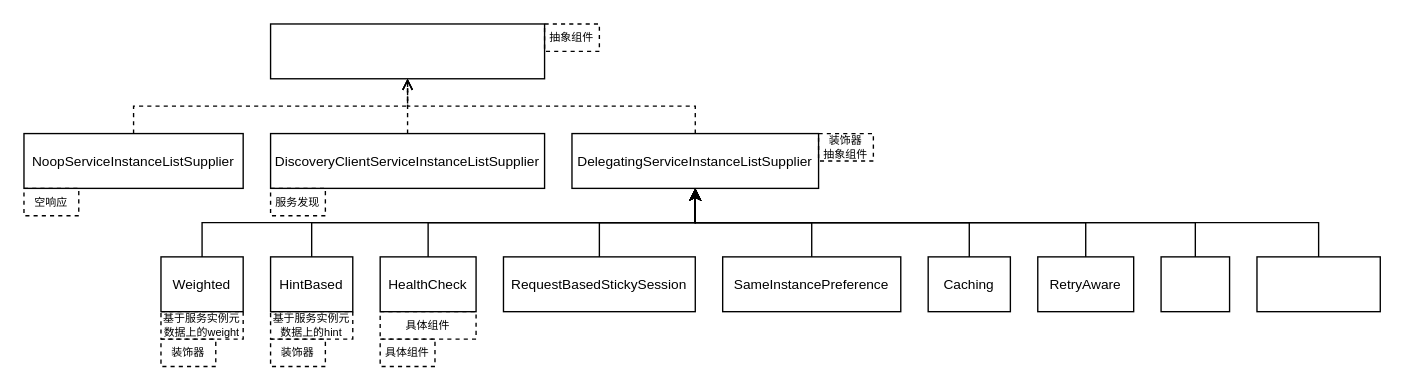
Some shapes in this 1404 by 390 pixel diagram are drawn without their labels. The shapes that lost their labels are listed below. From the top down, each one's centre as x and y in pixels, then its label:
At pixel 407 51: "«interface» ServiceInstanceListSupplier".
At pixel 1195 284: "Subset".
At pixel 1318 284: "ZonePreference".
